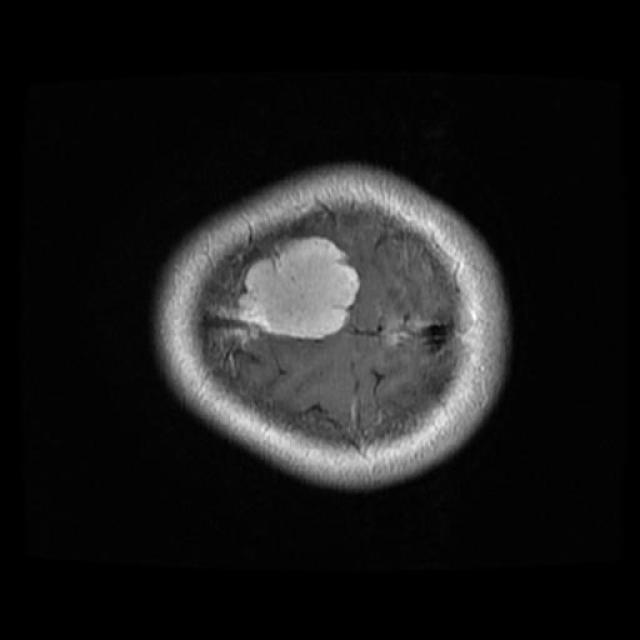Meningioma: (237, 237, 359, 339)
